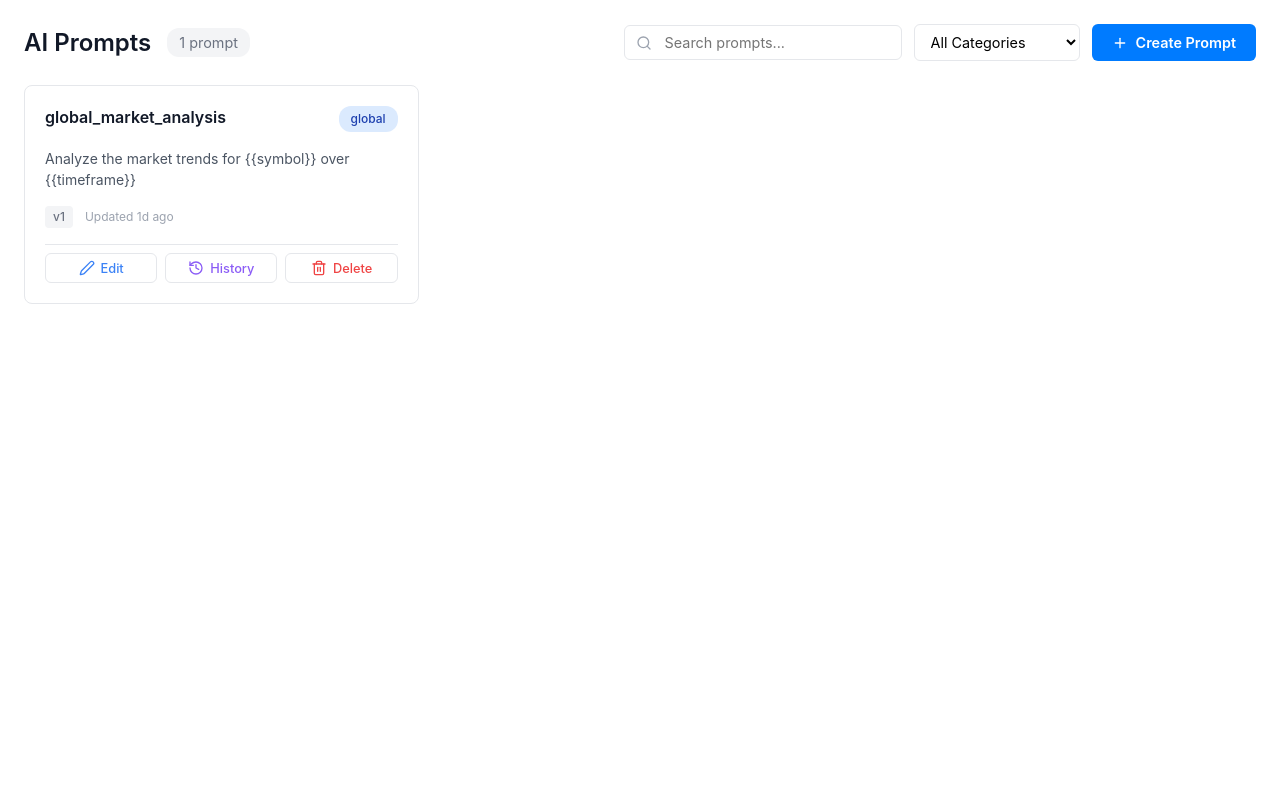
PromptsManager › View Switching › should switch to edit view when Edit clicked on prompt card
The width and height of the screenshot is (1280, 800).
Check: the heading "global_market_analysis" is shown, box [45, 107, 226, 127]
Step 1. Click the button "Edit" → (101, 268), box [45, 253, 157, 283]
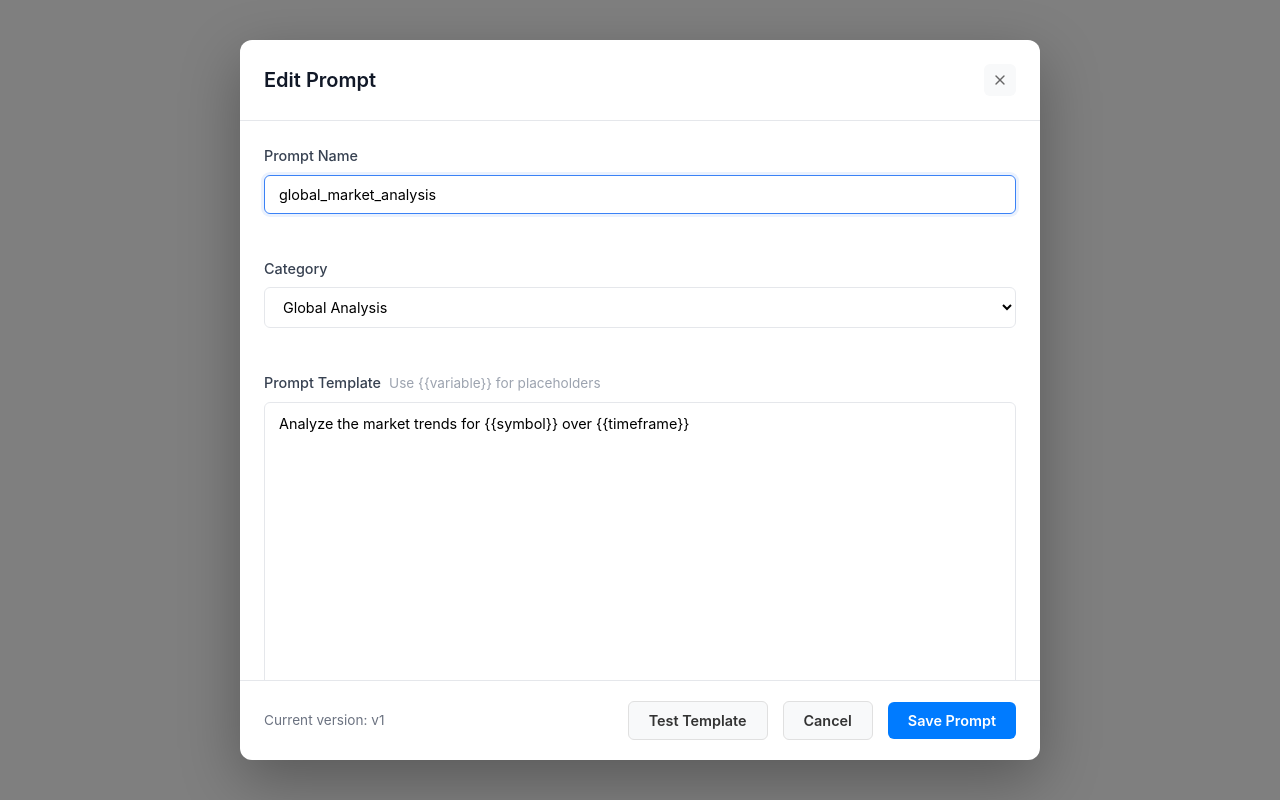
Check: the heading "Edit Prompt" is shown, box [264, 67, 376, 93]
